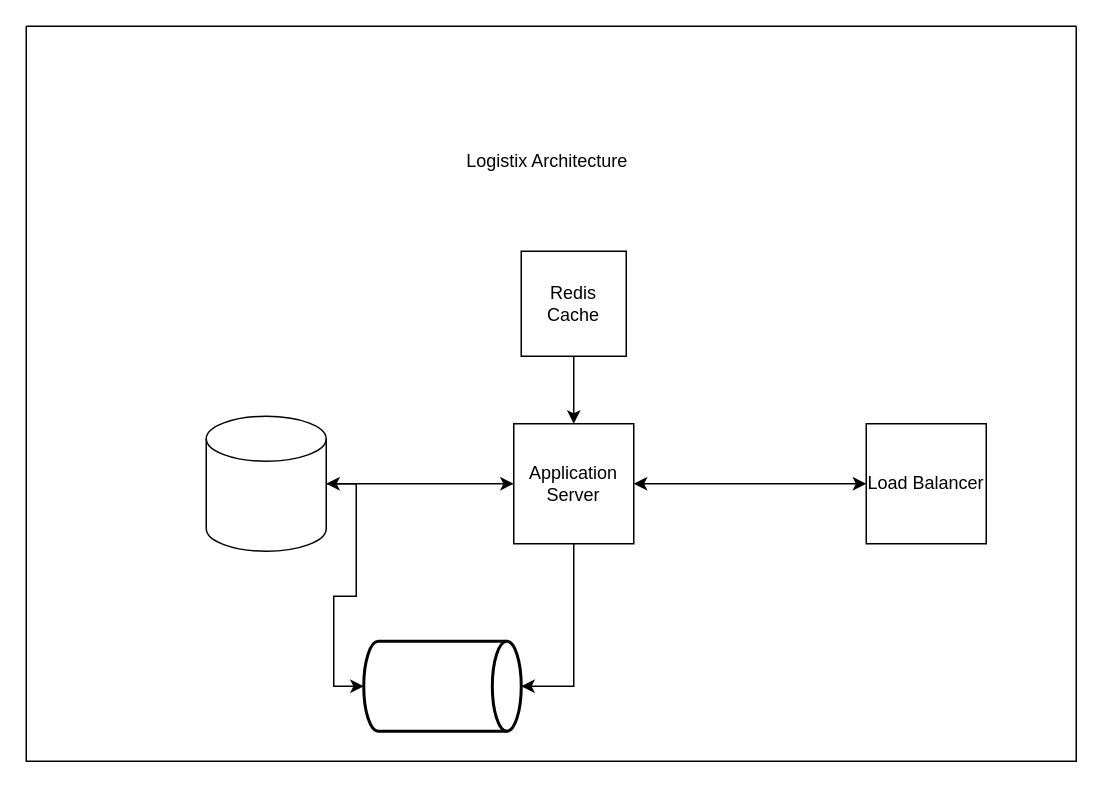
Some shapes in this 1103 by 788 pixel diagram are drawn without their labels. The shapes that lost their labels are listed below. From the top down, each one's centre as x and y in pixels, then its label:
At point 265,483: "Database".
At point 442,685: "Job Queue".
